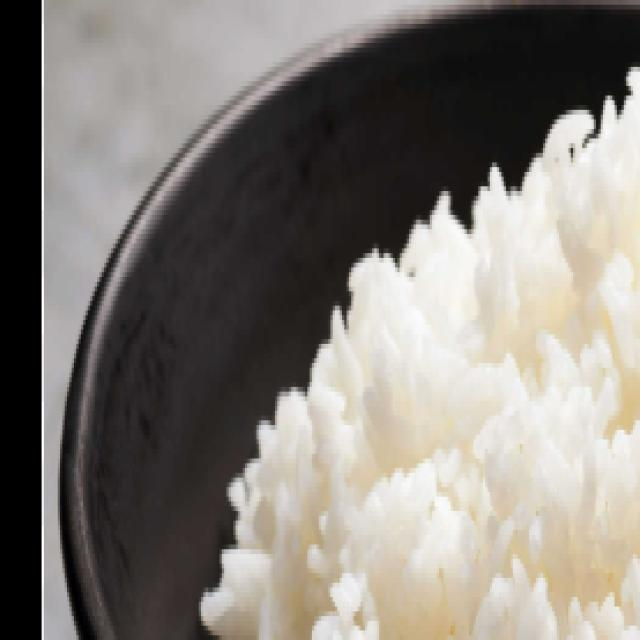rice: (254, 124, 640, 616)
